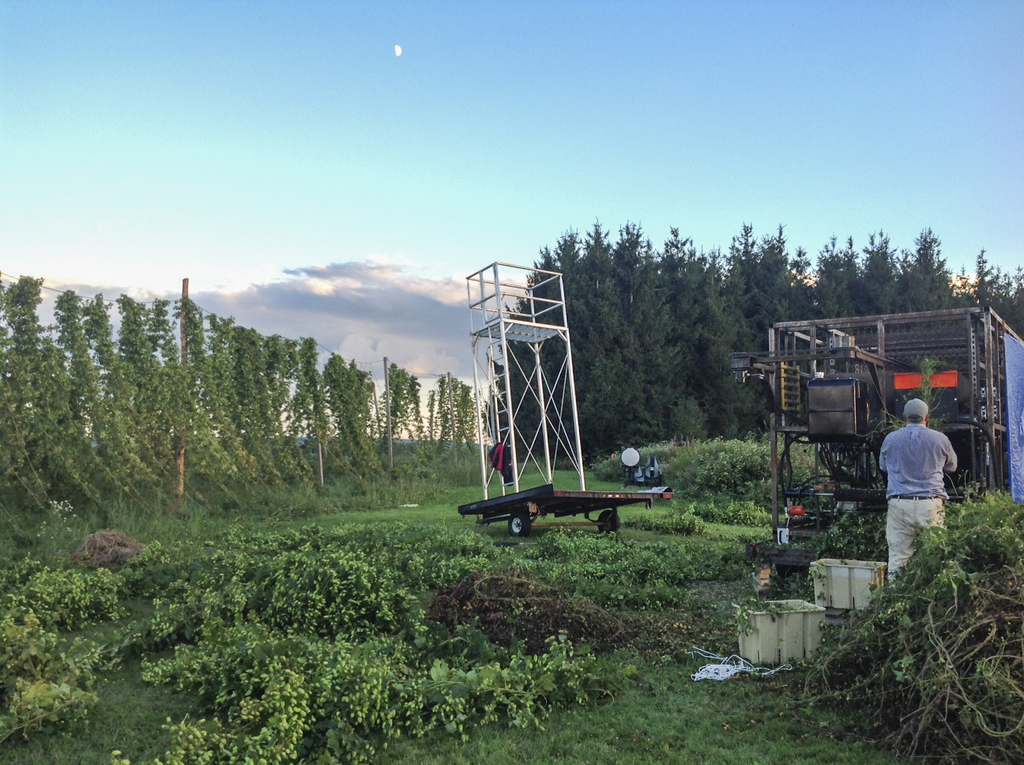Tree: (472, 207, 1023, 473)
